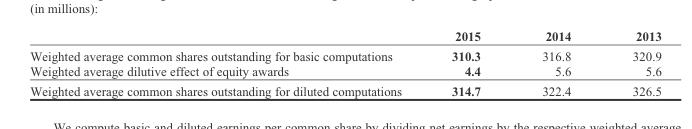table: (29, 28, 660, 97)
table column: (29, 28, 426, 97), (510, 28, 601, 97), (426, 28, 510, 97), (601, 28, 660, 97)
table column header: (29, 28, 660, 45)
table row: (29, 45, 660, 63), (29, 28, 660, 45), (29, 63, 660, 80), (29, 80, 660, 97)
